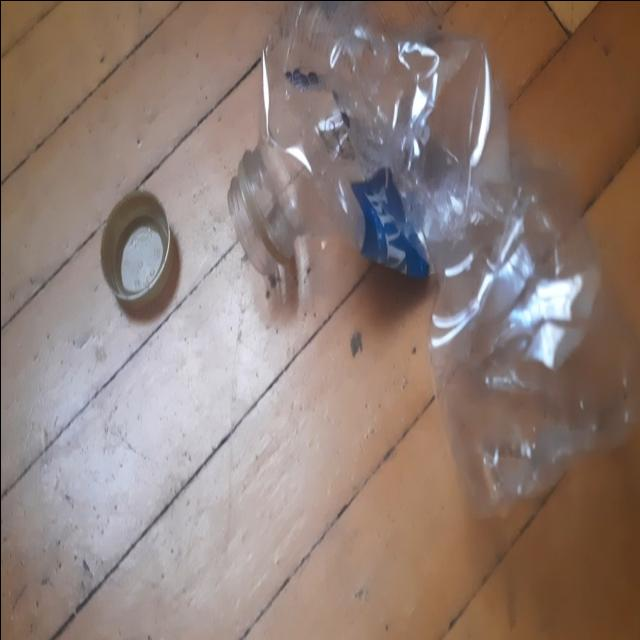Plastic: (234, 4, 637, 520)
